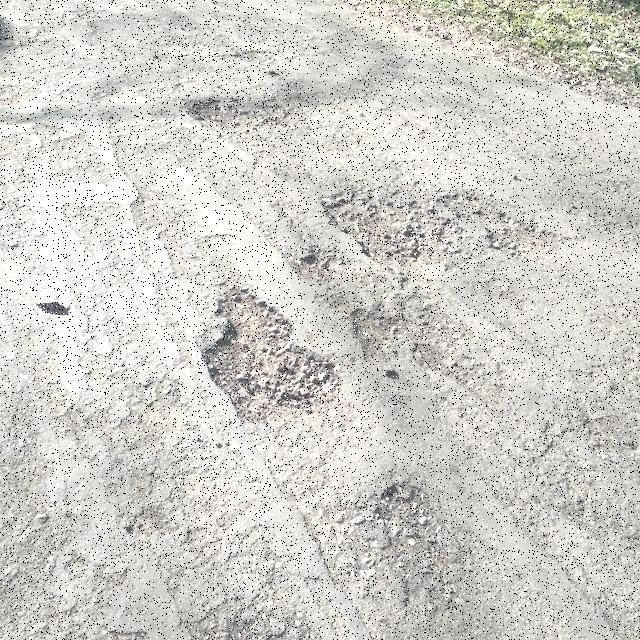Pothole: (197, 279, 343, 426), (324, 188, 555, 271), (356, 291, 499, 396), (364, 481, 452, 619), (186, 99, 283, 130)
